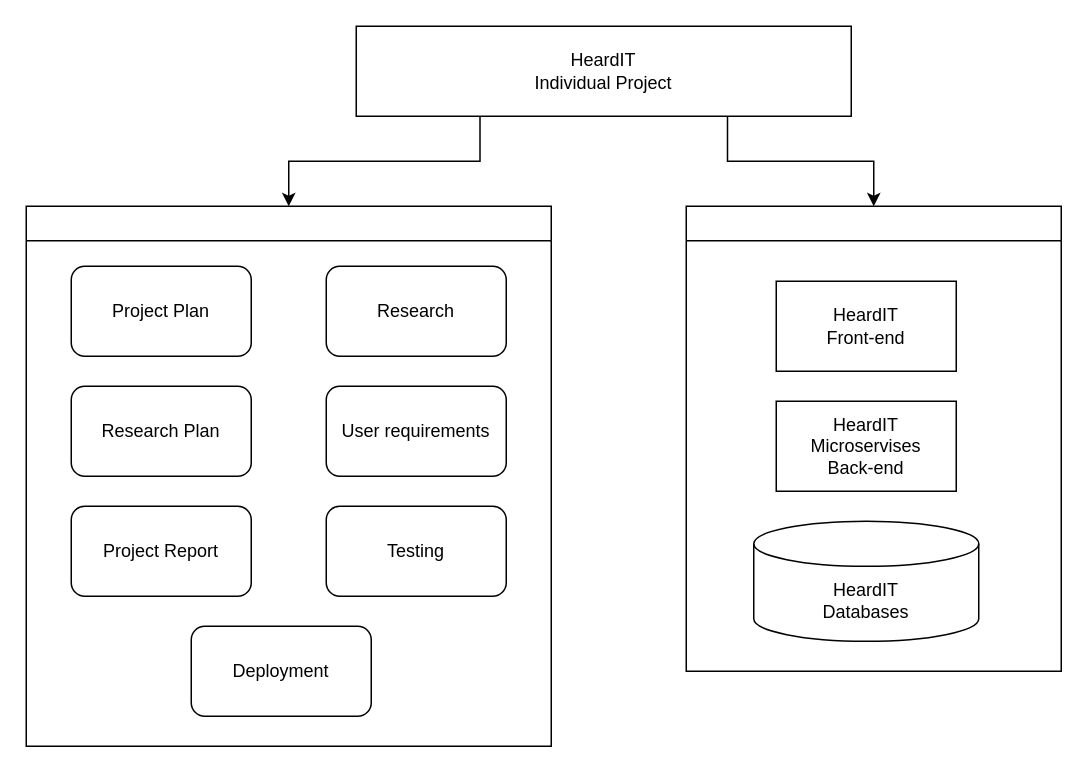
Image size: 1088x773. Some labels were removed from this diagram. The shapes that lost their labels are listed below. From the top down, each one's centre as x and y in pixels, then its label:
the point at 873,438: HeardIT Application
the point at 288,475: HeardIT Documentation
